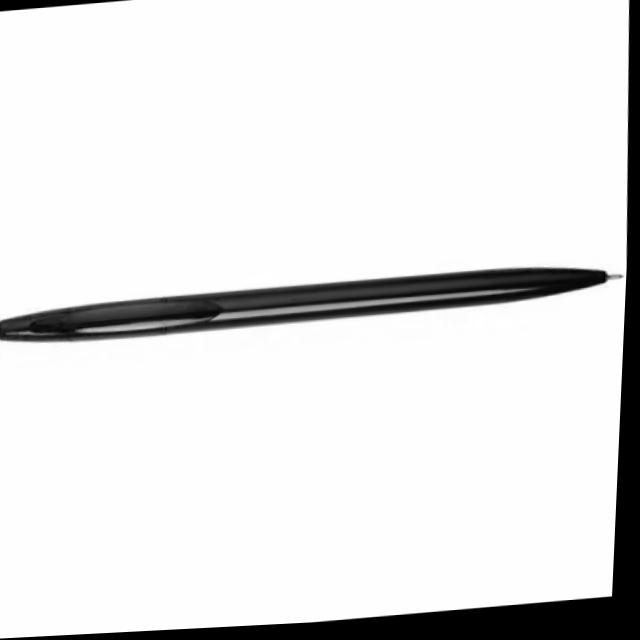pen: (0, 258, 625, 349)
